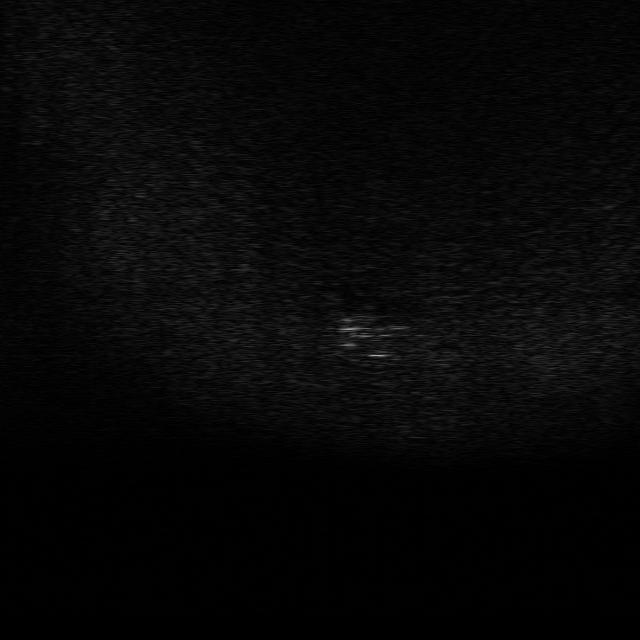plane: (332, 316, 412, 346)
